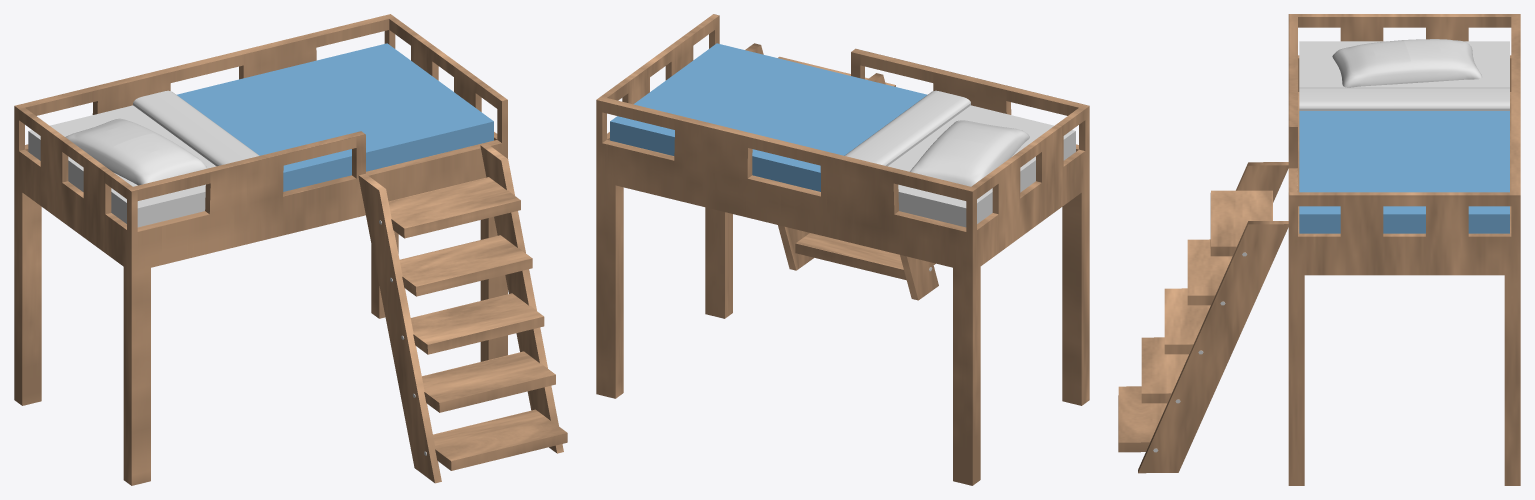
Rendered from LoftBed.fbx.
3 views of the same model, side by side, from view 1: azimuth 30°, elevation 25°; view 2: azimuth 150°, elevation 25°; view 3: azimuth 270°, elevation 25° (orthographic).
Visible parts, largest first — view 1: LoftBed; view 2: LoftBed; view 3: LoftBed.
Part boxes in pixels (<box>): LoftBed: <box>14,14,567,485</box>; LoftBed: <box>596,14,1089,485</box>; LoftBed: <box>1118,14,1520,485</box>.
Size of the model in its own units: 1717 by 1283 by 1609.
